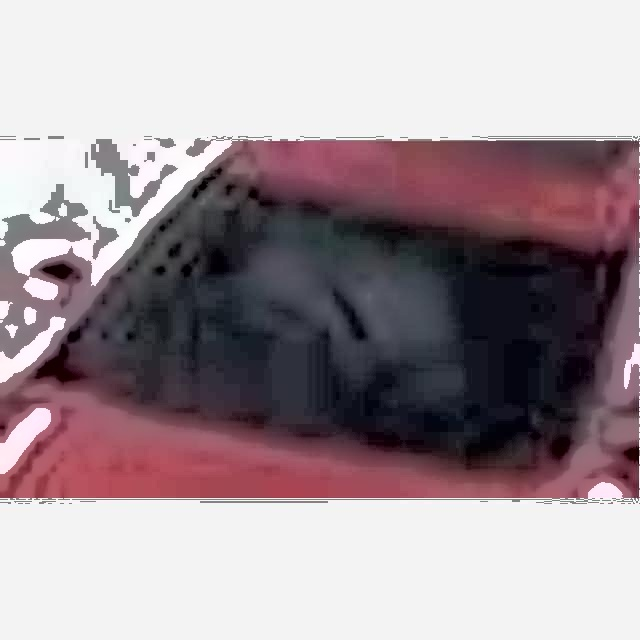pakai: (224, 216, 449, 399)
